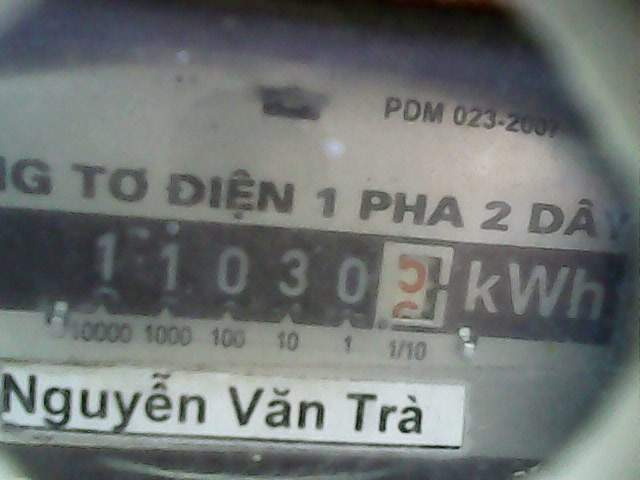phy_plate: (75, 211, 463, 339)
